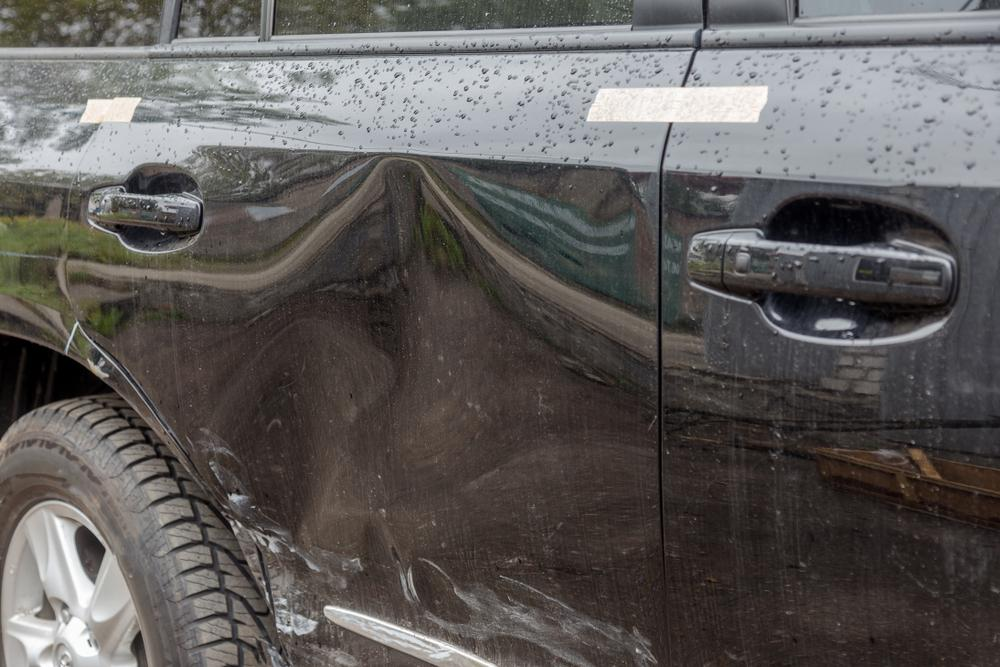dent: (212, 159, 473, 555)
scratch: (261, 532, 652, 667)
